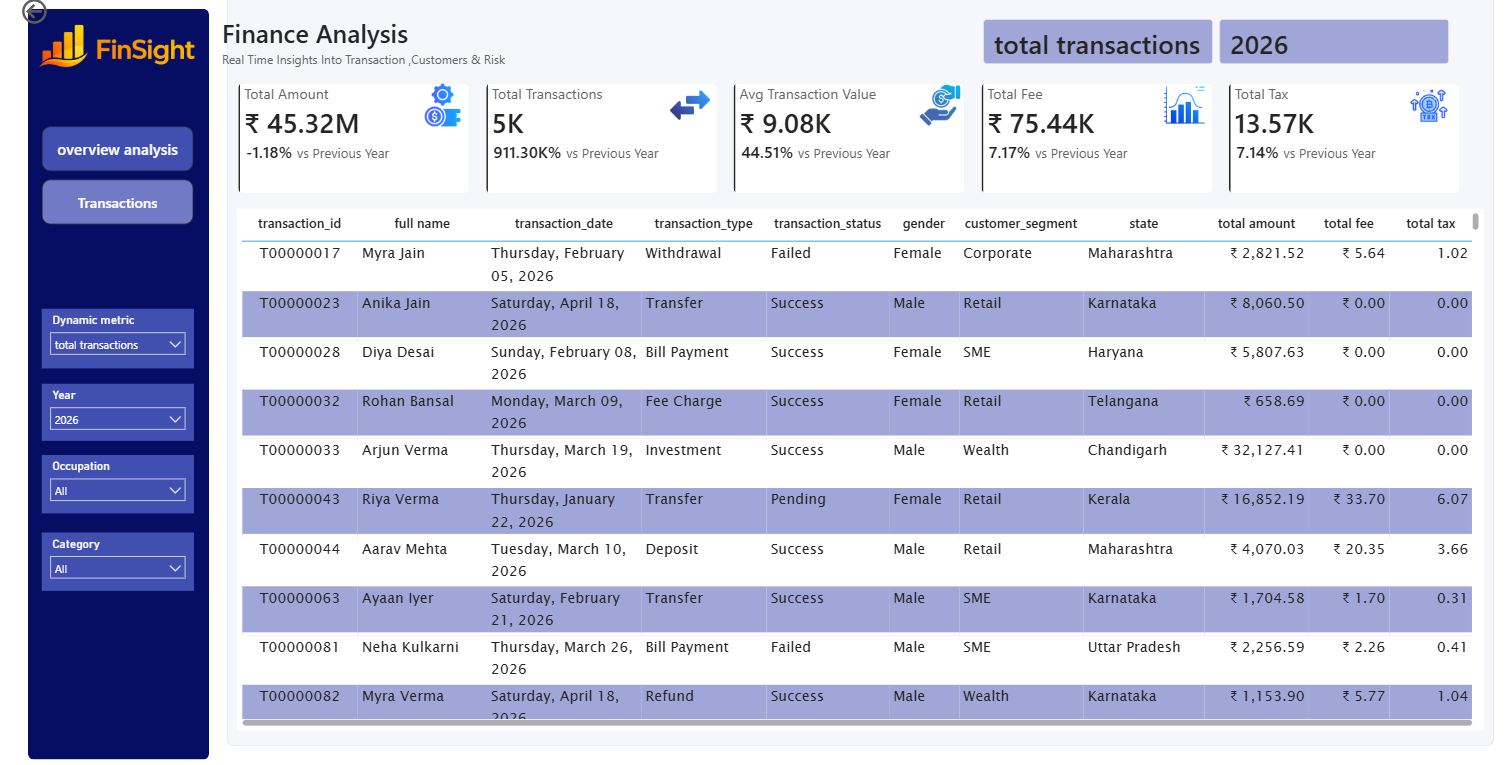

The page's visual inventory and layout, read from the dashboard file:
{"tool":"powerbi","page":{"name":"Transactions ","canvas":[1800,950],"ordinal":1},"visuals":[{"type":"shape","box":[11.4,16.4,220.7,915.7],"z":0},{"type":"shape","box":[254.9,0,1545.5,916.2],"z":1000},{"type":"image","box":[18,16.4,209.3,91.6],"z":2000},{"type":"cardVisual","fields":{"Data":["finance_transactions (1).dashboard title"]},"box":[232.2,16.4,385.9,80.1],"z":3000},{"type":"cardVisual","fields":{"Data":["finance_transactions (1).total amount","finance_transactions (1).total transactions","finance_transactions (1).avg transaction value","finance_transactions (1).total fee","finance_transactions (1).total tax"]},"box":[244.2,82,1543.7,185.4],"z":4000},{"type":"image","box":[488.3,108.3,60,51.7],"z":5000},{"type":"image","box":[791.7,108.3,56.7,51.7],"z":6000},{"type":"image","box":[1098.3,108.3,53.3,51.7],"z":7000},{"type":"image","box":[1393.3,108.3,58.3,51.7],"z":8000},{"type":"image","box":[1688.3,108.3,63.3,53.3],"z":9000},{"type":"shape","box":[267.4,260.3,1520.5,636.4],"z":10000},{"type":"cardVisual","fields":{"Data":["finance_transactions (1).selected dynamic measure","finance_transactions (1).selected year"]},"box":[1172.9,25,579.3,66],"z":11000},{"type":"tableEx","fields":{"Values":["finance_transactions (1).transaction_id","customers (2).full name","finance_transactions (1).transaction_date","finance_transactions (1).transaction_type","finance_transactions (1).transaction_status","customers (2).gender","customers (2).customer_segment","customers (2).state","finance_transactions (1).total amount","finance_transactions (1).total fee","finance_transactions (1).total tax"]},"box":[267.4,260.3,1520.5,636.4],"z":12000},{"type":"actionButton","box":[0,0,100,40],"z":13000},{"type":"slicer","fields":{"Values":["calendar table.year"]},"box":[28.5,474.2,185.4,69.5],"z":14000},{"type":"slicer","fields":{"Values":["Dynamic metric .Dynamic metric "]},"box":[28.5,383.2,185.4,73.1],"z":15000},{"type":"slicer","fields":{"Values":["customers (2).occupation"]},"box":[28.5,561.5,185.4,71.3],"z":16000},{"type":"slicer","fields":{"Values":["customers (2).customer_segment"]},"box":[28.5,656,185.4,71.3],"z":17000},{"type":"pageNavigator","box":[29,159.7,185.5,121],"z":18000}]}

Visuals, with their boxes on the page's 1800x950 design canvas (x1, y1, x2, y2). These are canvas units, not pixel positions in the 1512x765 screenshot, which may show the page scaled, cropped or inside an application window:
shape: bbox=(11, 16, 232, 932)
shape: bbox=(255, 0, 1800, 916)
image: bbox=(18, 16, 227, 108)
cardVisual - finance_transactions (1).dashboard title: bbox=(232, 16, 618, 96)
cardVisual - finance_transactions (1).total amount x finance_transactions (1).total transactions: bbox=(244, 82, 1788, 267)
image: bbox=(488, 108, 548, 160)
image: bbox=(792, 108, 848, 160)
image: bbox=(1098, 108, 1152, 160)
image: bbox=(1393, 108, 1452, 160)
image: bbox=(1688, 108, 1752, 162)
shape: bbox=(267, 260, 1788, 897)
cardVisual - finance_transactions (1).selected dynamic measure x finance_transactions (1).selected year: bbox=(1173, 25, 1752, 91)
tableEx - finance_transactions (1).transaction_id x customers (2).full name: bbox=(267, 260, 1788, 897)
actionButton: bbox=(0, 0, 100, 40)
slicer - calendar table.year: bbox=(28, 474, 214, 544)
slicer - Dynamic metric .Dynamic metric : bbox=(28, 383, 214, 456)
slicer - customers (2).occupation: bbox=(28, 562, 214, 633)
slicer - customers (2).customer_segment: bbox=(28, 656, 214, 727)
pageNavigator: bbox=(29, 160, 214, 281)
